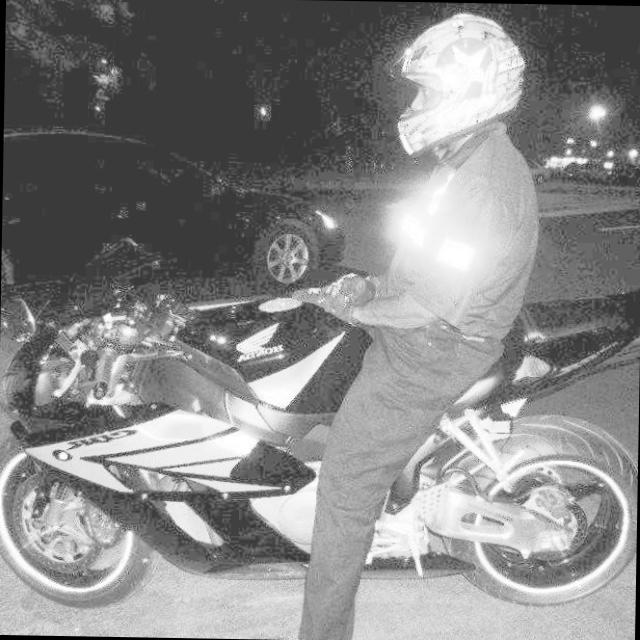Motorcycle: (0, 251, 637, 640)
